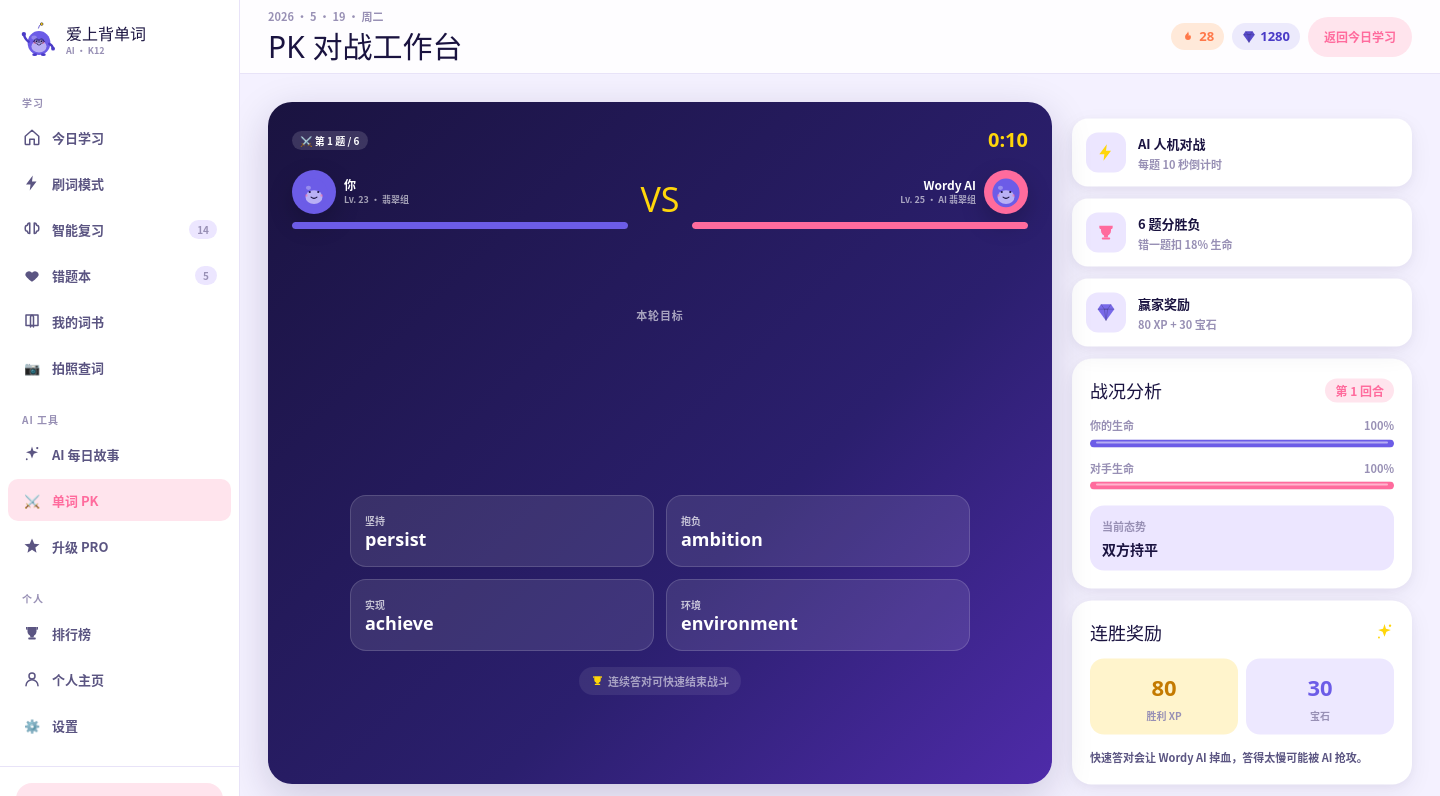
Scenario: PKScreen › awards XP and gems after a perfect victory
Step 1. Click the button "坚持 persist" → (396, 539), box [350,494,654,566]
Wait 900 ms
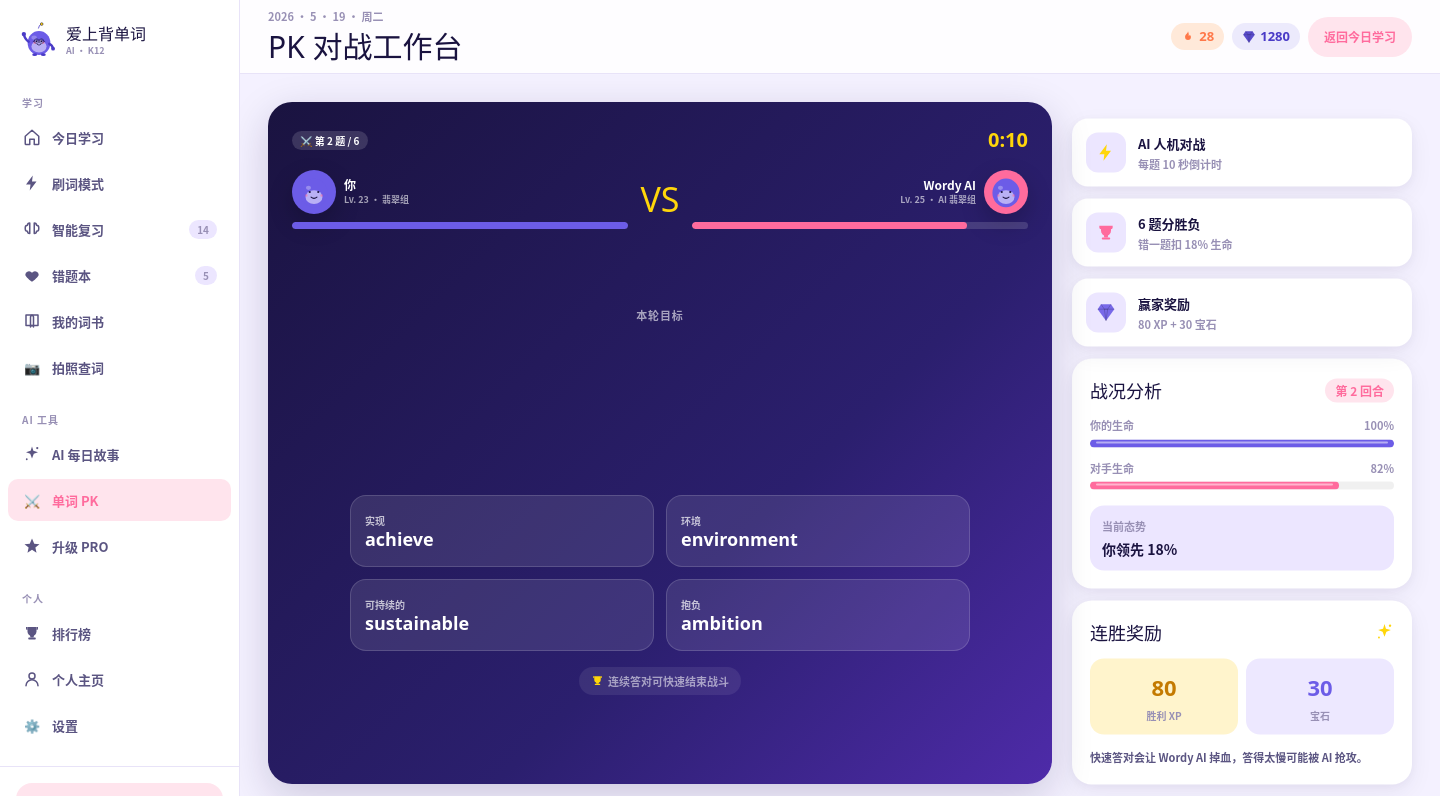
Step 2. Click the button "抱负 ambition" → (722, 623), box [666,578,970,650]
Wait 900 ms
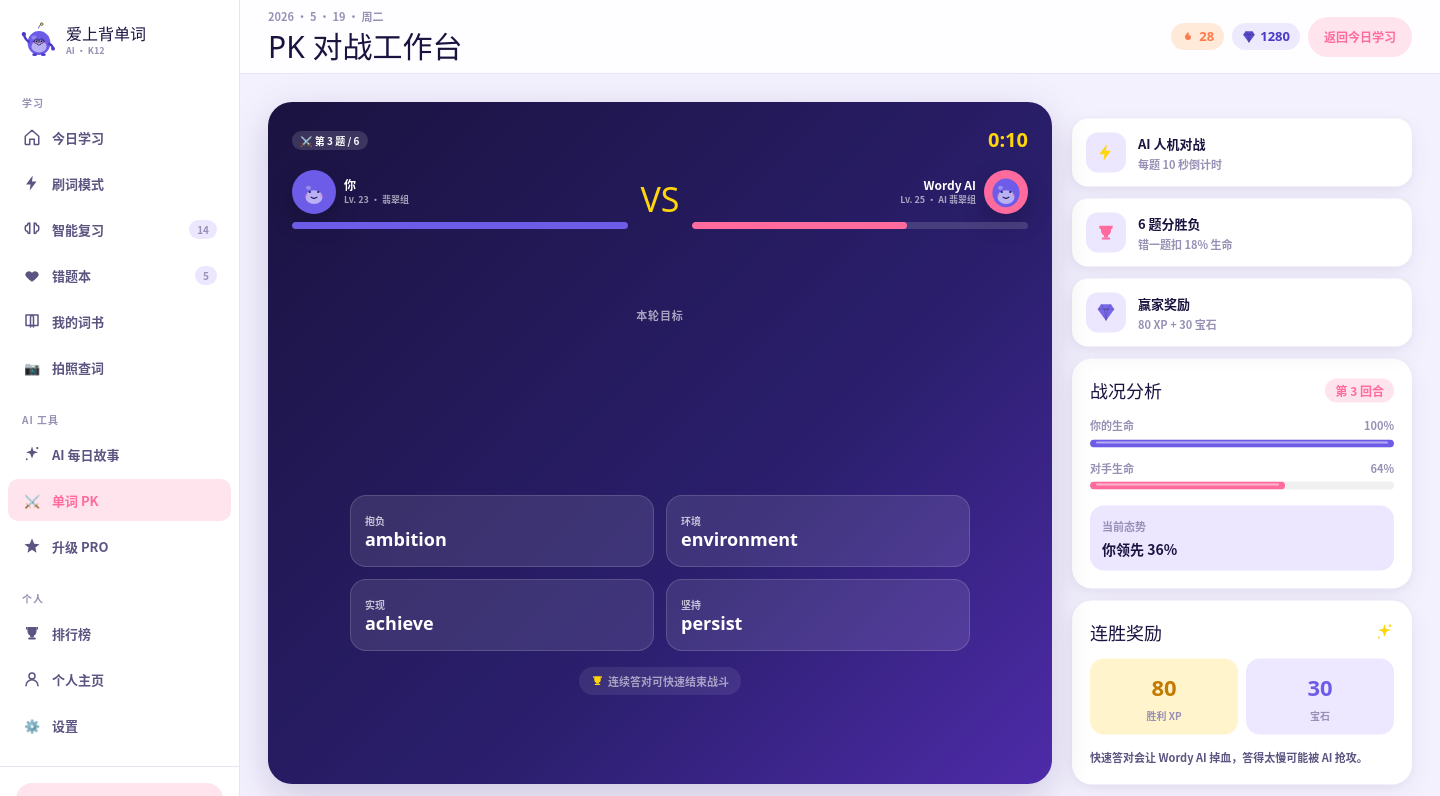
Step 3. Click the button "实现 achieve" → (399, 623), box [350,578,654,650]
Wait 900 ms
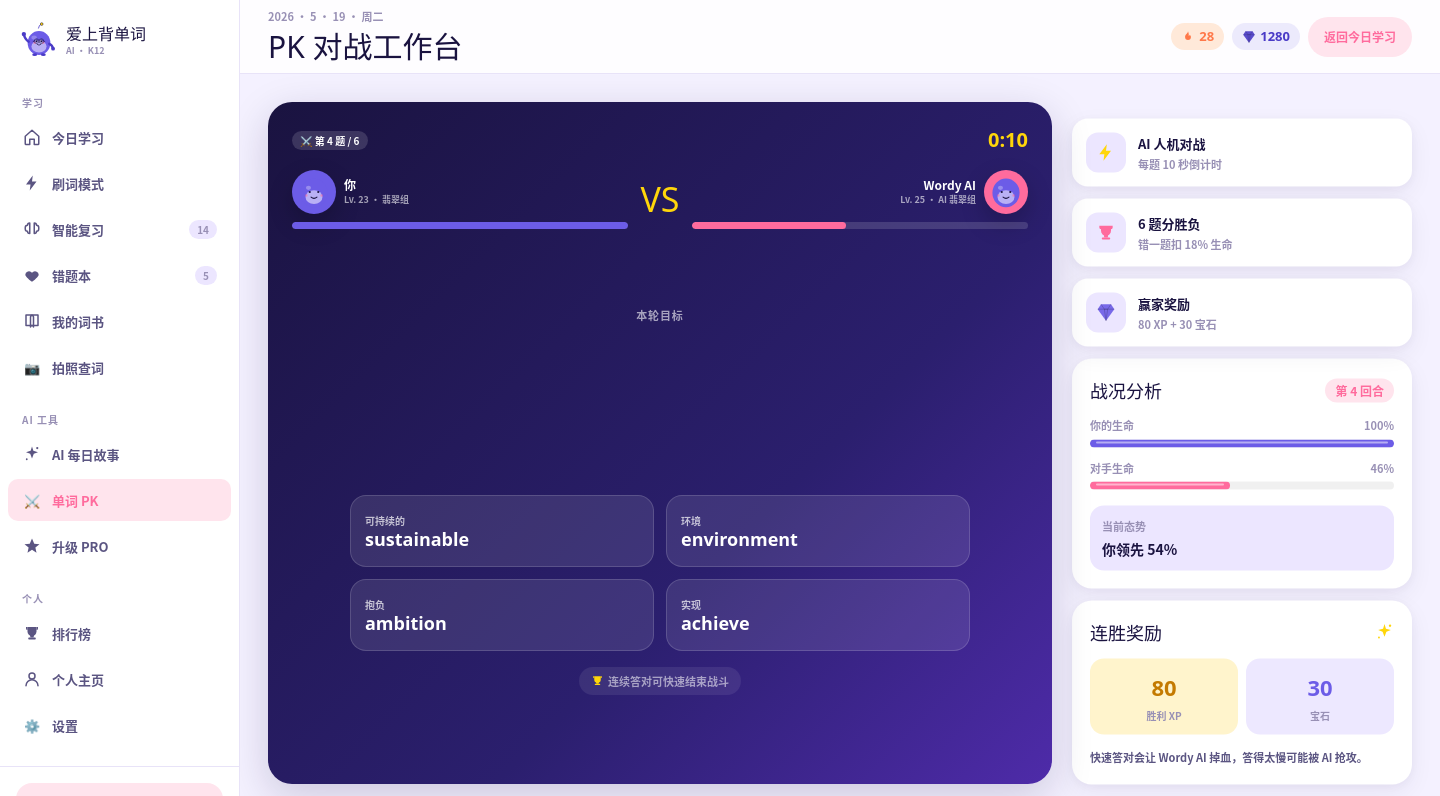
Step 4. Click the button "环境 environment" → (739, 539), box [666,494,970,566]
Wait 900 ms
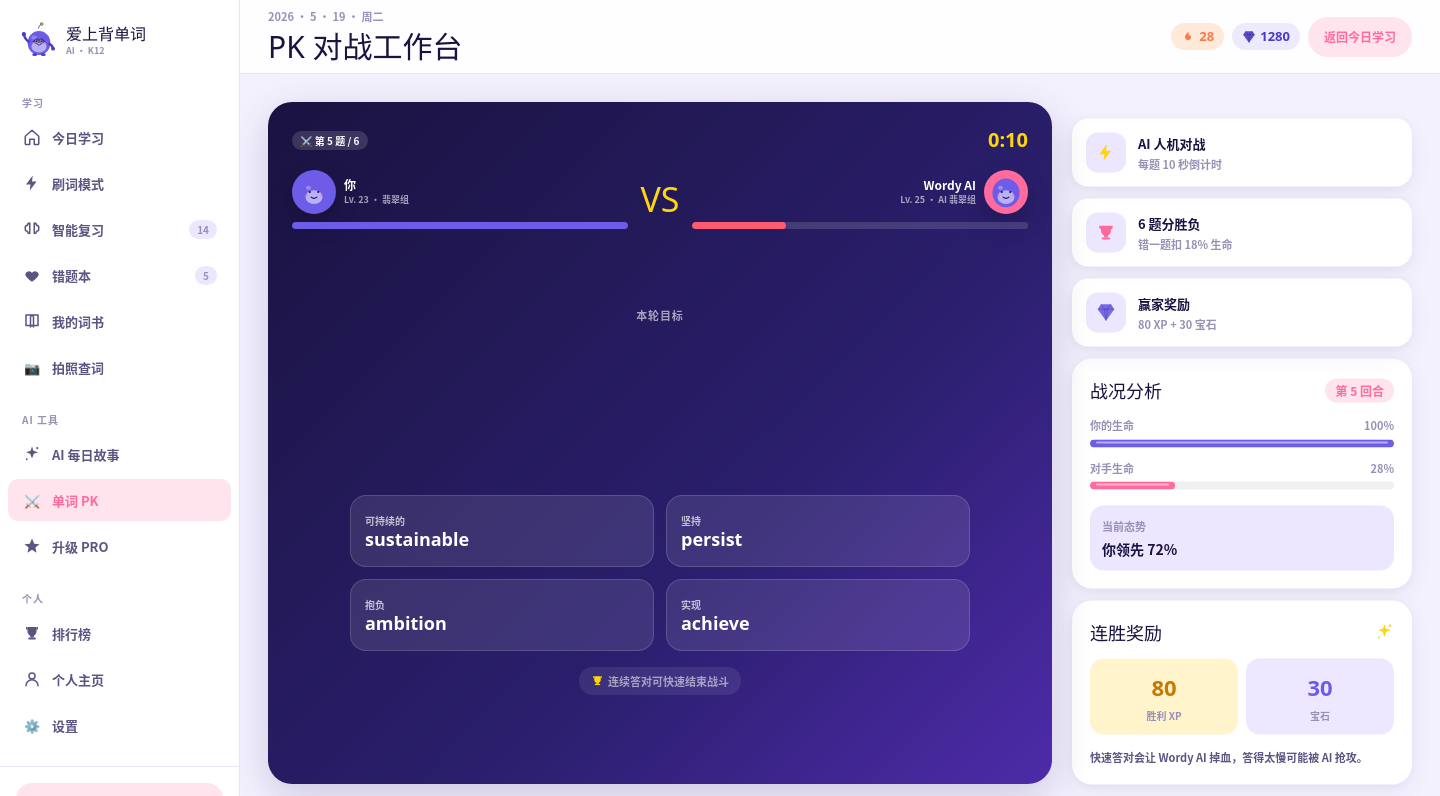
Step 5. Click the button "可持续的 sustainable" → (385, 520), box [350,494,654,566]
Wait 900 ms
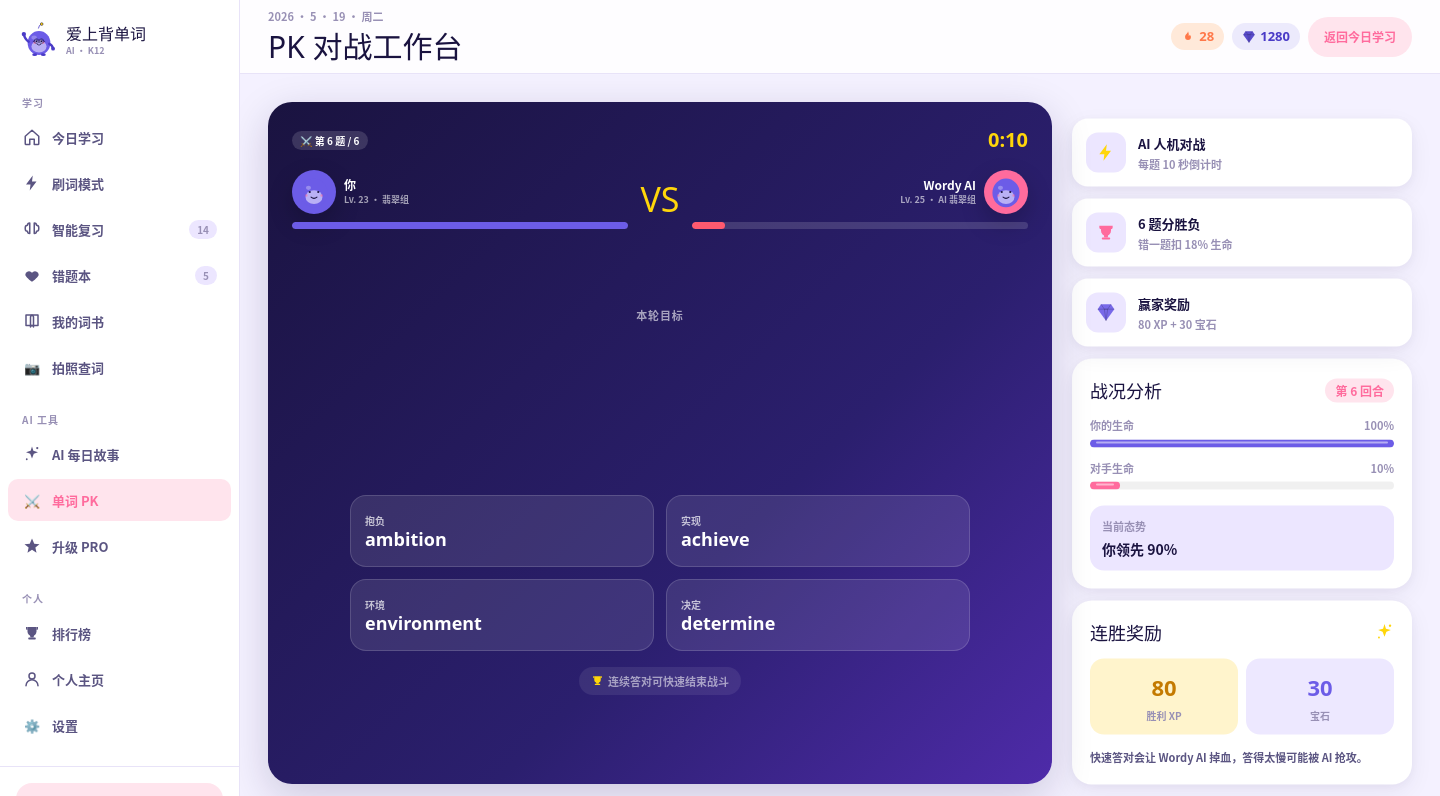
Step 6. Click the button "决定 determine" → (728, 623), box [666,578,970,650]
Wait 900 ms
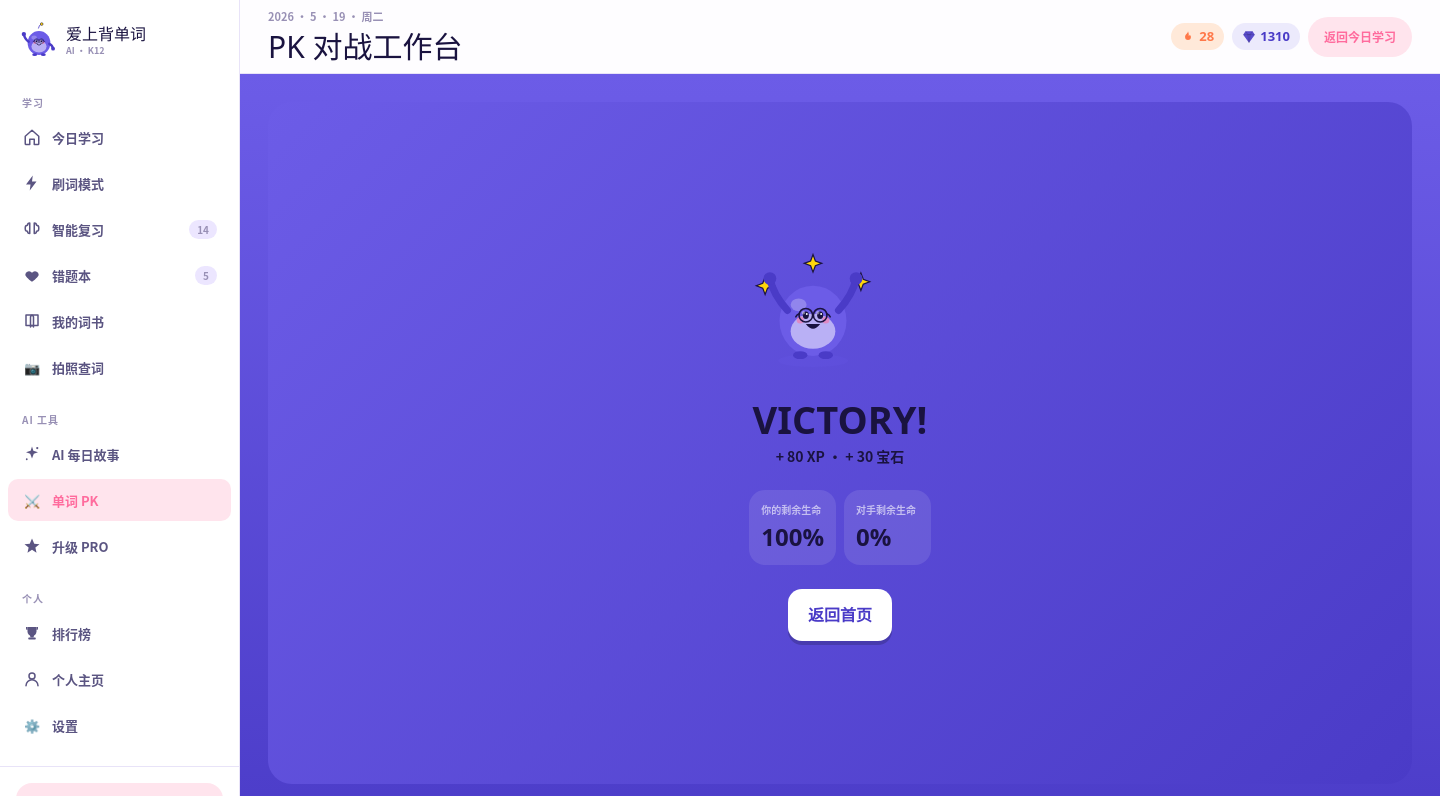
Expected: the heading "VICTORY!" is shown, [749,400,931,438]
Expected: the text "+ 80 XP · + 30 宝石" is shown, [776,446,904,466]
